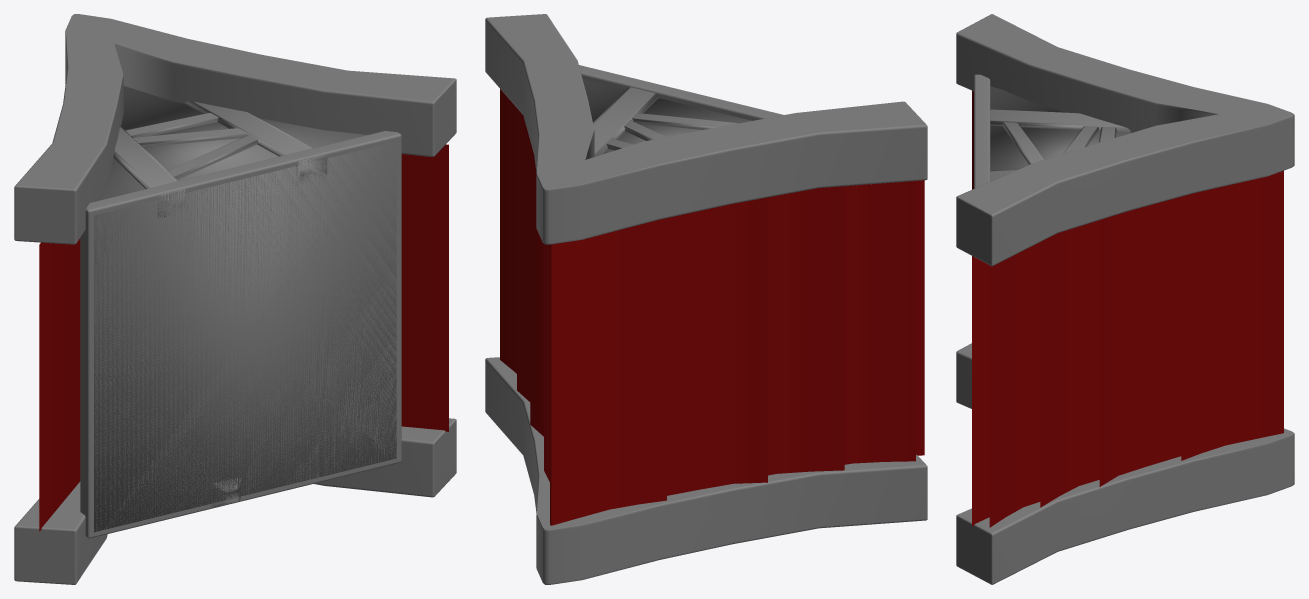
Rendered from SM_SquareRoof.fbx.
3 renders of one model, left to right at view 1: azimuth 30°, elevation 25°; view 2: azimuth 150°, elevation 25°; view 3: azimuth 270°, elevation 25°, orthographic. The views are drawn at different scales.
Visible parts, largest first — view 1: SM_SquareRoof; view 2: SM_SquareRoof; view 3: SM_SquareRoof.
Boxes of the visible parts, x1,y1,x2,y2 form: SM_SquareRoof: (14,14,456,584); SM_SquareRoof: (485,14,927,584); SM_SquareRoof: (956,14,1294,584).
Size of the model in its own units: 584 by 500 by 414.
